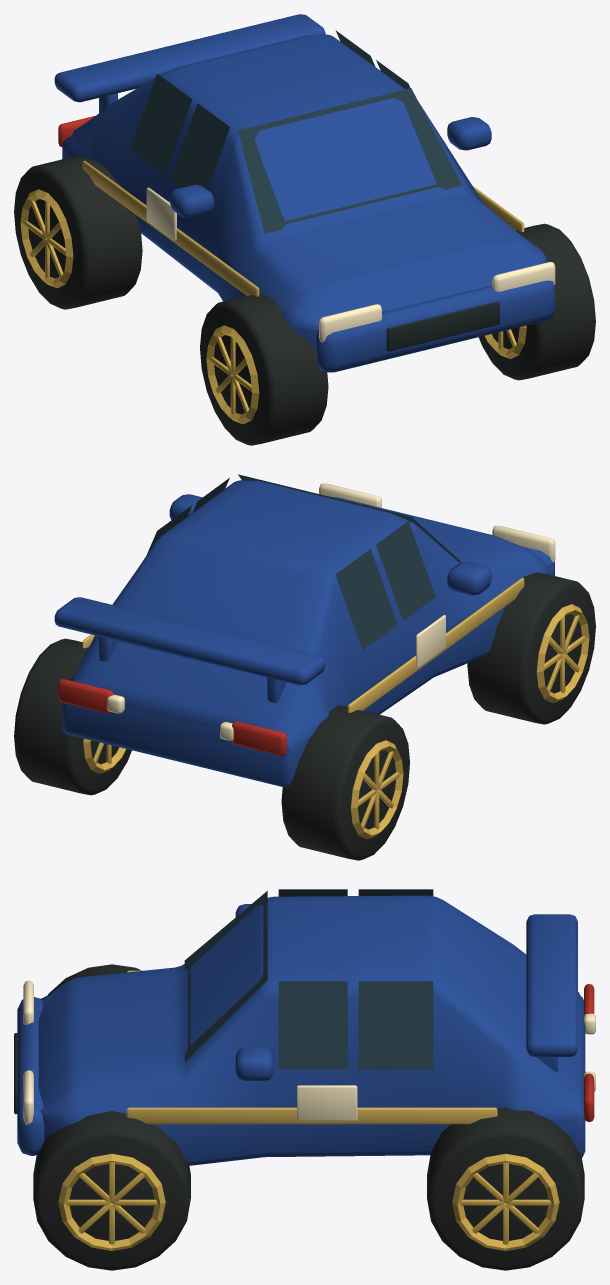
The model's file is car-7.glb.
3 views of the same model, one above another, from view 1: azimuth 30°, elevation 25°; view 2: azimuth 150°, elevation 25°; view 3: azimuth 270°, elevation 25° (orthographic). The views are drawn at different scales.
Visible parts, largest first — view 1: body_surface.007, side_window.007, flat_tyre.029, flat_tyre.028, flat_tyre.030, rally_stripe.007, rim.028, rim.029, intake.007, headlamp_-0.008, headlamp_0.008, door_number.007 (+1 smaller); view 2: body_surface.007, flat_tyre.029, flat_tyre.028, flat_tyre.031, side_window.007, rim.029, rim.028, rally_stripe.007, taillamp_-0.008, taillamp_0.008, door_number.007, headlamp_-0.008 (+2 smaller); view 3: body_surface.007, side_window.007, flat_tyre.031, flat_tyre.030, rally_stripe.007, rim.030, rim.031, door_number.007, flat_tyre.028, headlamp_0.008, taillamp_0.008.
Part boxes in pixels (x1,y1,x2,y2): body_surface.007: [54, 14, 554, 372]; side_window.007: [130, 30, 462, 233]; flat_tyre.029: [14, 155, 142, 309]; flat_tyre.028: [200, 293, 328, 445]; flat_tyre.030: [478, 223, 595, 380]; rally_stripe.007: [82, 160, 524, 296]; rim.028: [206, 325, 259, 424]; rim.029: [20, 189, 73, 288]; intake.007: [386, 301, 499, 351]; headlamp_-0.008: [319, 304, 381, 342]; headlamp_0.008: [492, 262, 555, 291]; door_number.007: [146, 140, 445, 240]; body_surface.007: [54, 480, 554, 787]; flat_tyre.029: [281, 705, 409, 860]; flat_tyre.028: [467, 572, 595, 724]; flat_tyre.031: [14, 638, 131, 795]; side_window.007: [147, 474, 461, 650]; rim.029: [350, 740, 403, 839]; rim.028: [536, 604, 589, 703]; rally_stripe.007: [82, 577, 524, 712]; taillamp_-0.008: [232, 721, 286, 755]; taillamp_0.008: [58, 679, 113, 713]; door_number.007: [416, 615, 445, 668]; headlamp_-0.008: [492, 525, 555, 562]; body_surface.007: [17, 895, 585, 1165]; side_window.007: [184, 889, 433, 1069]; flat_tyre.031: [427, 1107, 584, 1270]; flat_tyre.030: [33, 1111, 190, 1270]; rally_stripe.007: [126, 970, 497, 1124]; rim.030: [58, 1153, 165, 1250]; rim.031: [452, 1153, 559, 1250]; door_number.007: [297, 1085, 357, 1121]; flat_tyre.028: [47, 964, 141, 995]; headlamp_0.008: [23, 1070, 33, 1124]; taillamp_0.008: [584, 1073, 594, 1121].
Size of the model in its own units: 2.72 by 1.86 by 3.84.
